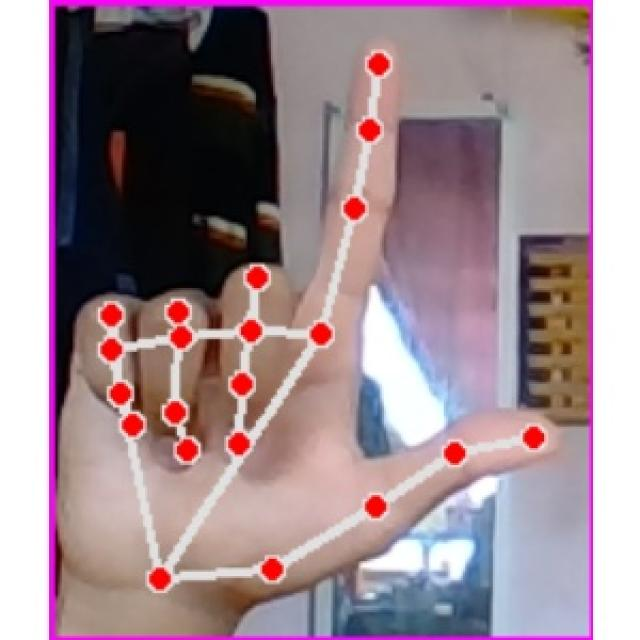L: (61, 24, 566, 612)
